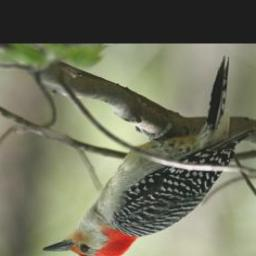Woodpecker: (42, 57, 252, 256)
